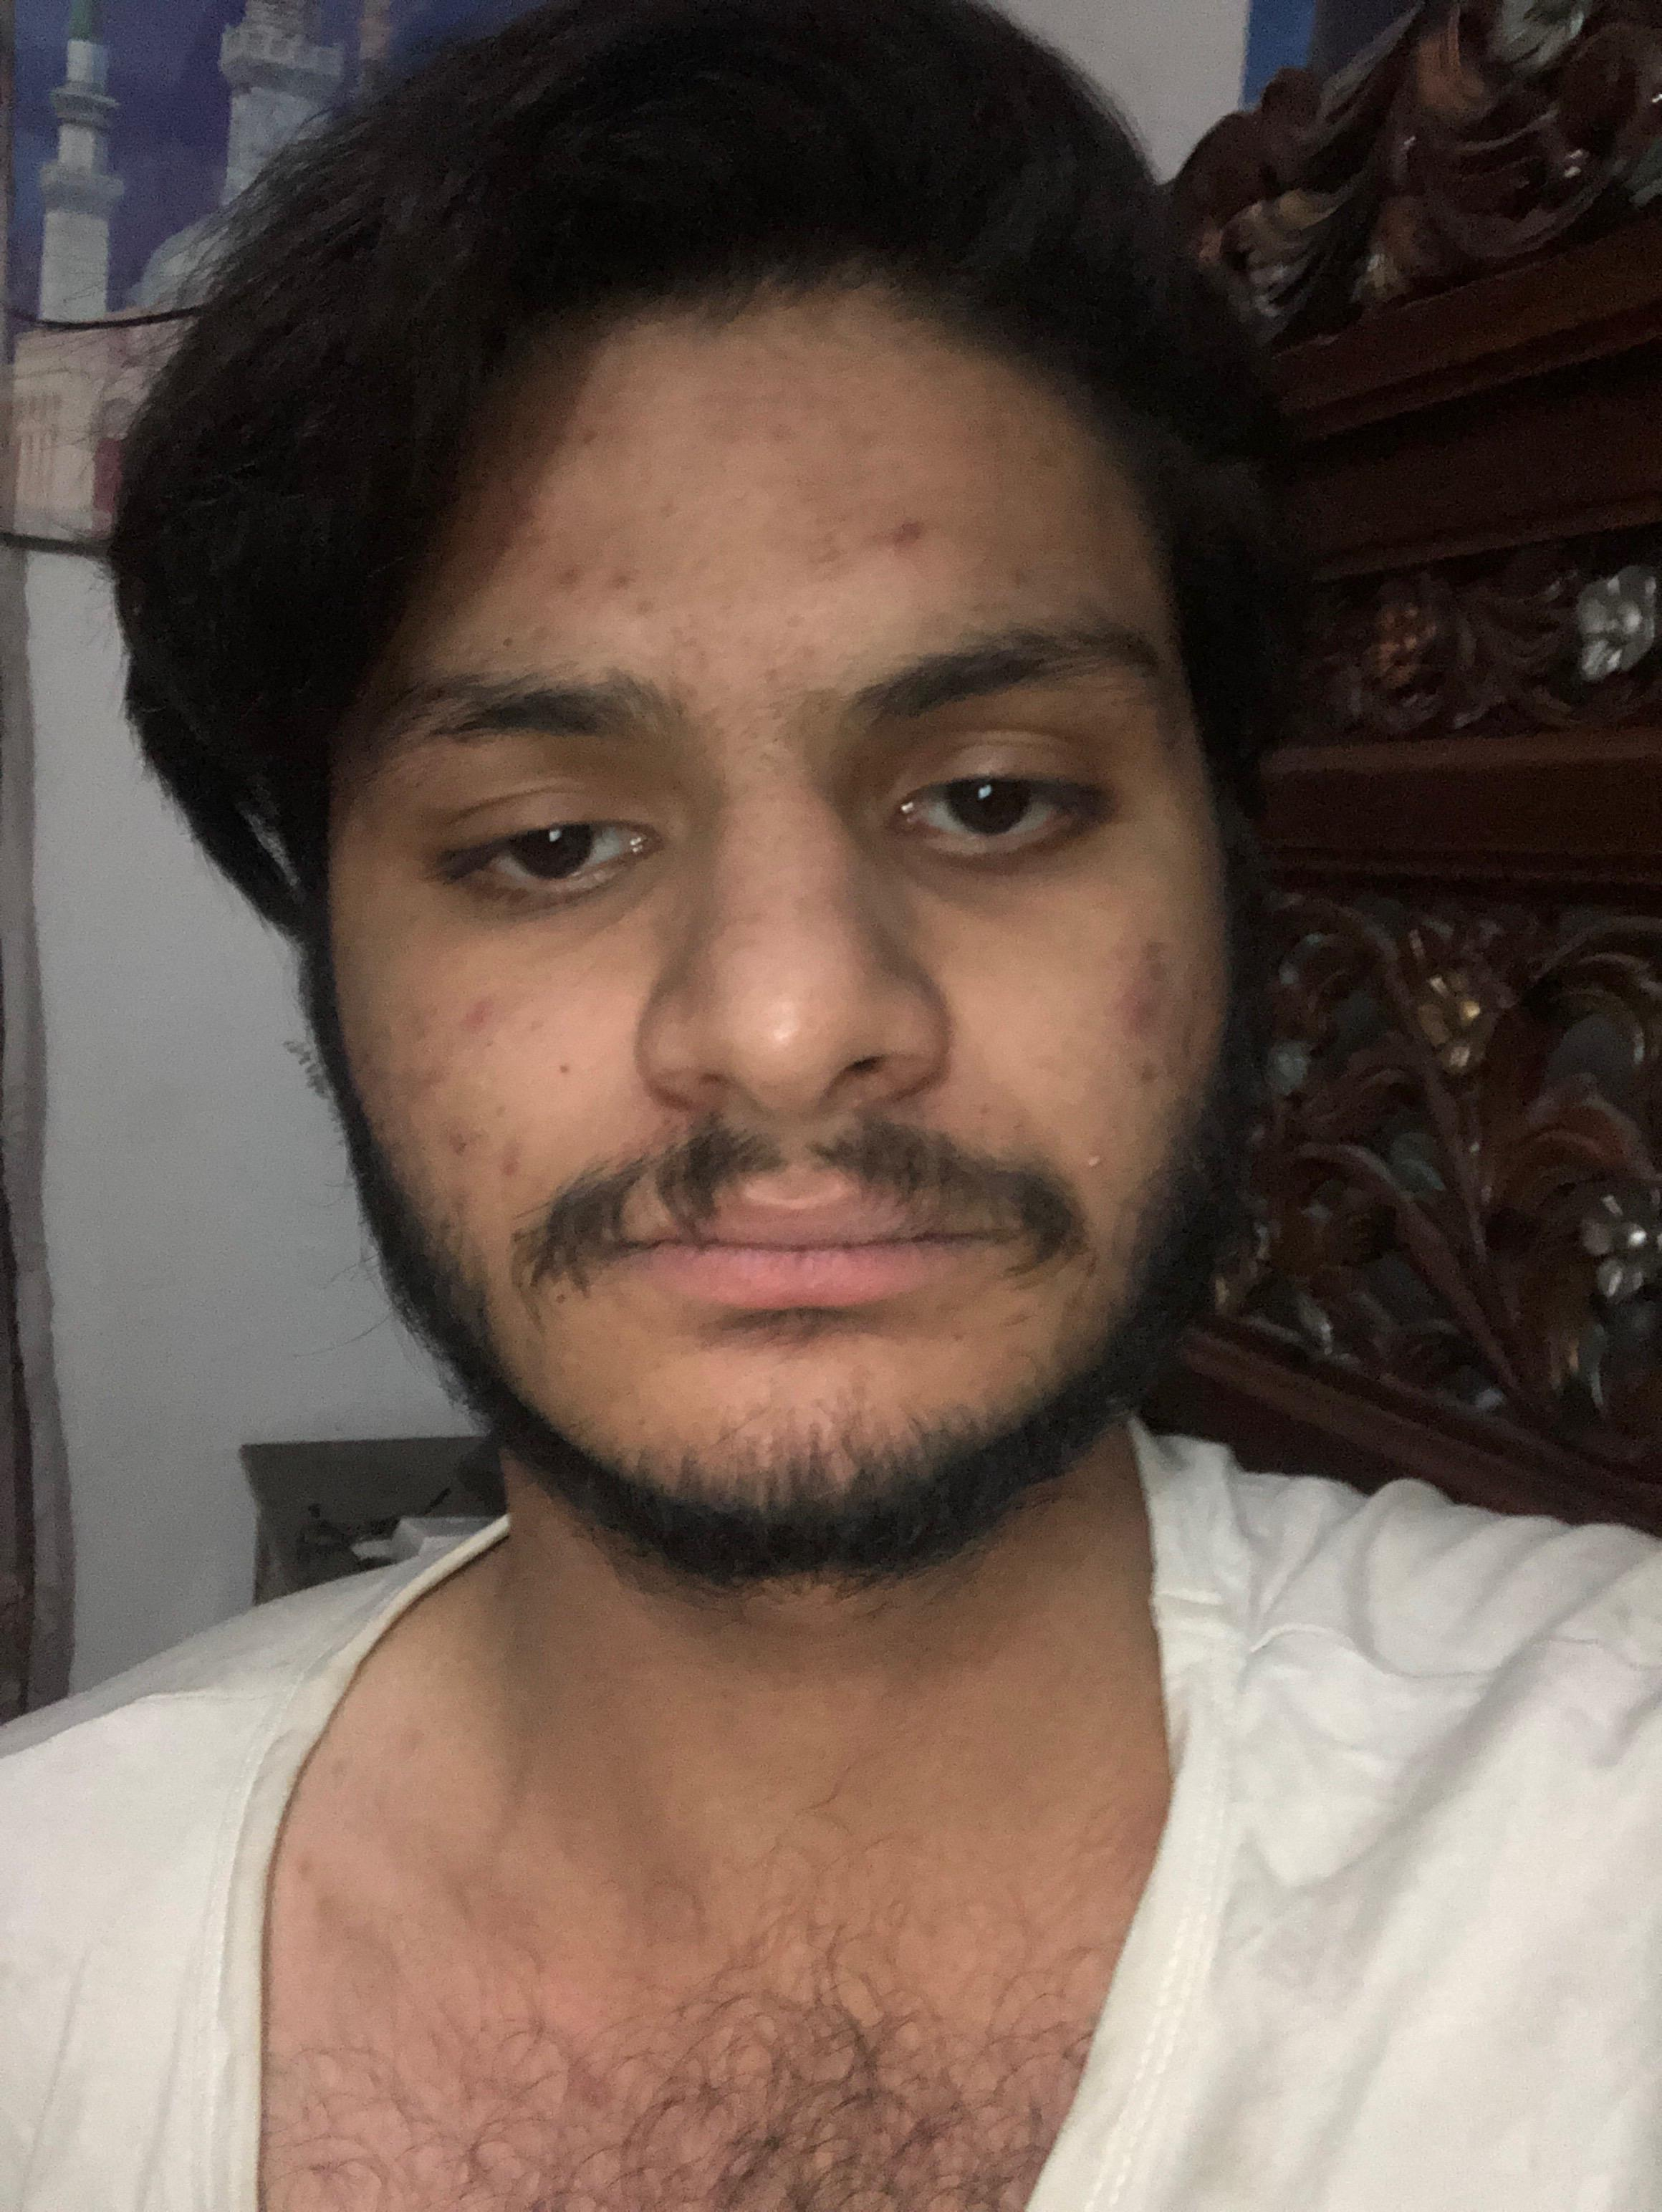Acne: (1112, 931, 1175, 1039), (871, 515, 934, 555), (487, 1130, 527, 1180), (398, 1049, 449, 1089), (800, 531, 838, 580), (1130, 1044, 1163, 1089), (721, 903, 763, 938), (560, 421, 604, 454), (463, 993, 496, 1035), (443, 1114, 480, 1151), (1079, 1142, 1110, 1182), (1030, 449, 1054, 487), (1006, 559, 1030, 595), (1000, 1302, 1037, 1327), (487, 538, 517, 567), (768, 414, 796, 445), (784, 606, 812, 635), (796, 641, 826, 667), (562, 555, 585, 587), (632, 590, 658, 616), (609, 562, 630, 592), (529, 618, 552, 644), (759, 663, 782, 686), (658, 498, 677, 522)
